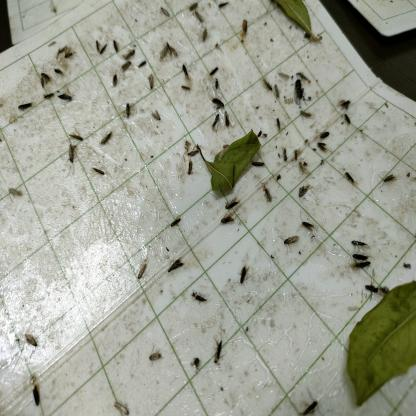prays_oleae: (62, 141, 77, 192), (281, 226, 303, 253), (136, 250, 153, 280), (27, 384, 45, 412), (212, 329, 224, 367), (24, 331, 42, 356), (164, 257, 184, 278), (146, 345, 165, 365), (344, 164, 357, 193), (192, 286, 209, 307), (212, 92, 228, 114), (259, 74, 275, 96), (299, 214, 314, 237), (223, 110, 236, 136), (97, 125, 113, 146), (236, 263, 250, 287), (66, 134, 86, 150), (296, 183, 312, 202), (271, 78, 283, 103), (38, 69, 51, 91), (382, 169, 395, 191), (92, 163, 107, 182), (218, 214, 236, 229), (152, 106, 164, 128), (124, 43, 137, 63), (17, 98, 33, 114), (112, 400, 130, 414), (222, 196, 240, 210), (191, 11, 205, 29), (352, 260, 374, 271), (121, 60, 134, 78), (92, 34, 102, 56), (146, 72, 156, 94), (211, 112, 223, 130), (42, 88, 56, 103), (168, 215, 182, 230), (366, 281, 381, 295), (60, 89, 76, 102), (186, 140, 199, 156), (300, 109, 313, 125), (338, 96, 350, 113), (122, 100, 133, 118), (200, 28, 211, 46), (182, 164, 198, 176), (210, 64, 222, 80), (353, 252, 372, 262), (281, 147, 290, 168), (179, 62, 190, 79), (347, 235, 364, 246), (318, 139, 328, 157), (137, 58, 149, 72), (339, 114, 353, 126), (63, 44, 73, 60), (100, 42, 109, 59), (112, 38, 120, 56), (54, 46, 66, 58), (298, 157, 306, 175), (275, 116, 282, 136), (216, 1, 228, 12), (186, 3, 199, 13), (111, 73, 117, 94), (179, 86, 193, 95), (263, 184, 270, 202), (213, 78, 221, 92), (55, 67, 63, 79), (320, 131, 332, 136)
